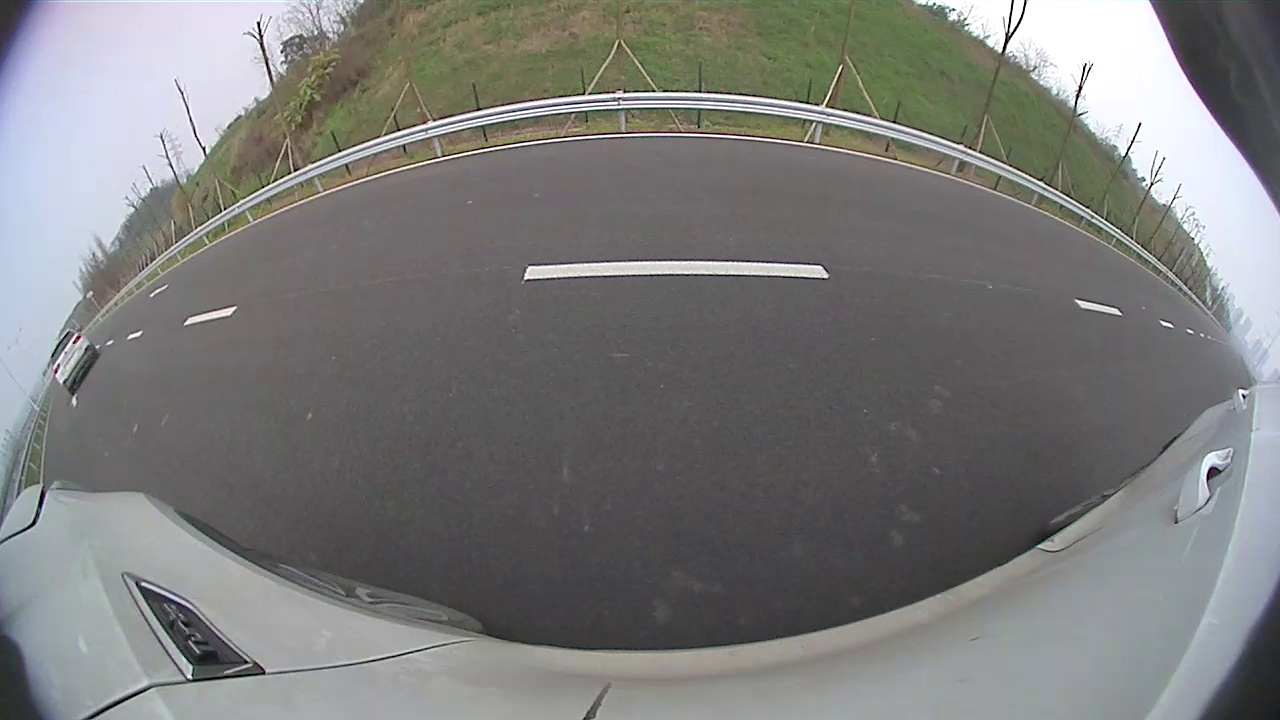car: (707, 147, 785, 199)
front: (707, 173, 717, 190)
rear: (722, 174, 735, 196)
